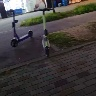beam: (5, 7, 34, 49)
gcooter: (32, 7, 57, 60)
